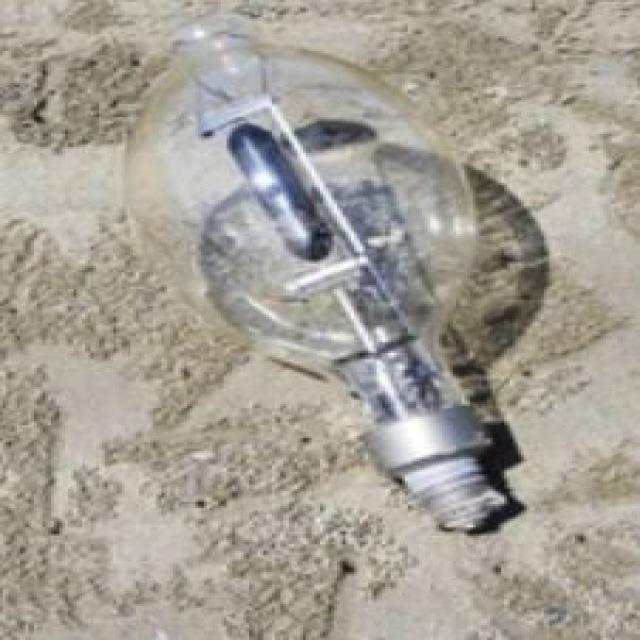electronic: (122, 12, 549, 532)
